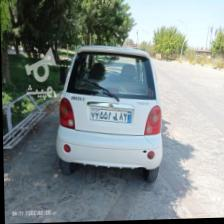plate: (91, 107, 132, 124)
